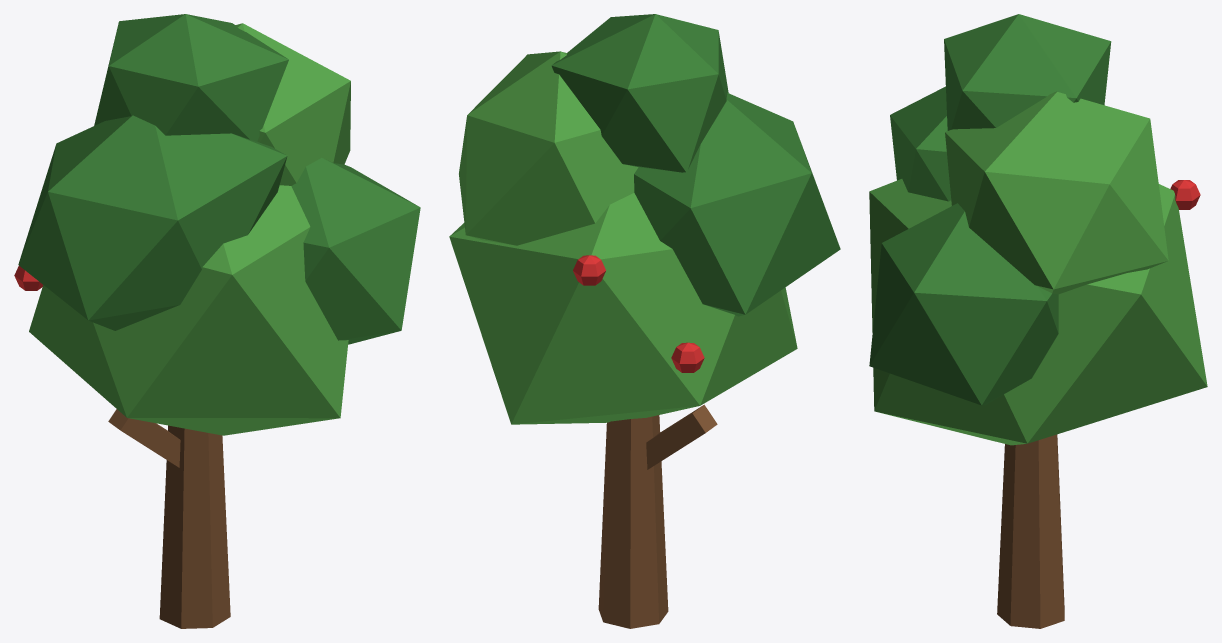
File: Tree.fbx
The picture shows the model from 3 angles, left to right: view 1: azimuth 30°, elevation 25°; view 2: azimuth 150°, elevation 25°; view 3: azimuth 270°, elevation 25°; orthographic projection. The views are drawn at different scales.
Visible parts, largest first — view 1: Tree; view 2: Tree; view 3: Tree.
Boxes of the visible parts, left/top/right/bottom form: Tree: left=14, top=14, right=420, bottom=628; Tree: left=449, top=14, right=840, bottom=628; Tree: left=869, top=14, right=1207, bottom=628.
Size of the model in its own units: 225 by 387 by 200.
